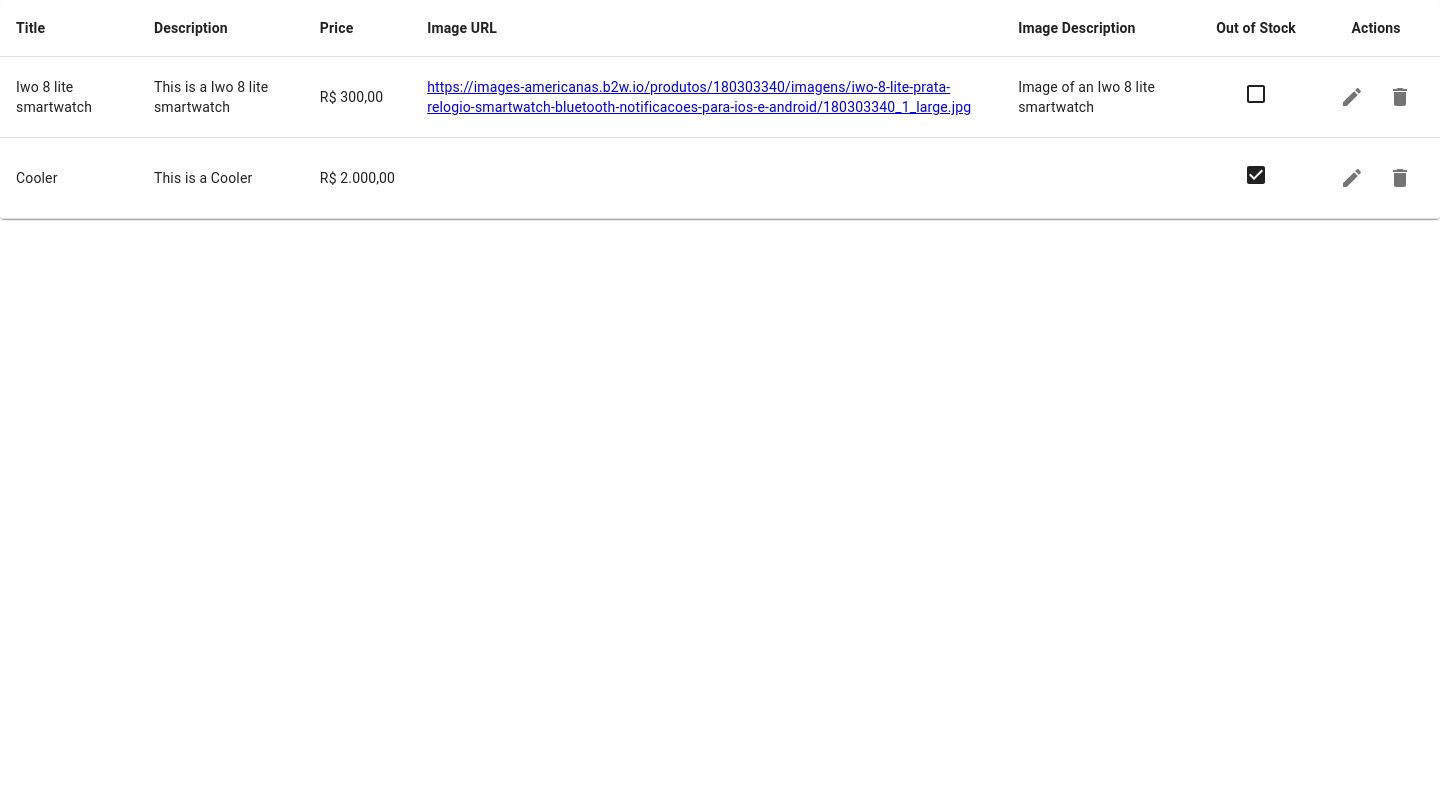
Test: Should show modal when clicking on edit action
Click the button named "Edit Cooler" at (1352, 178), box top-left (1328, 154), bottom-right (1376, 202)
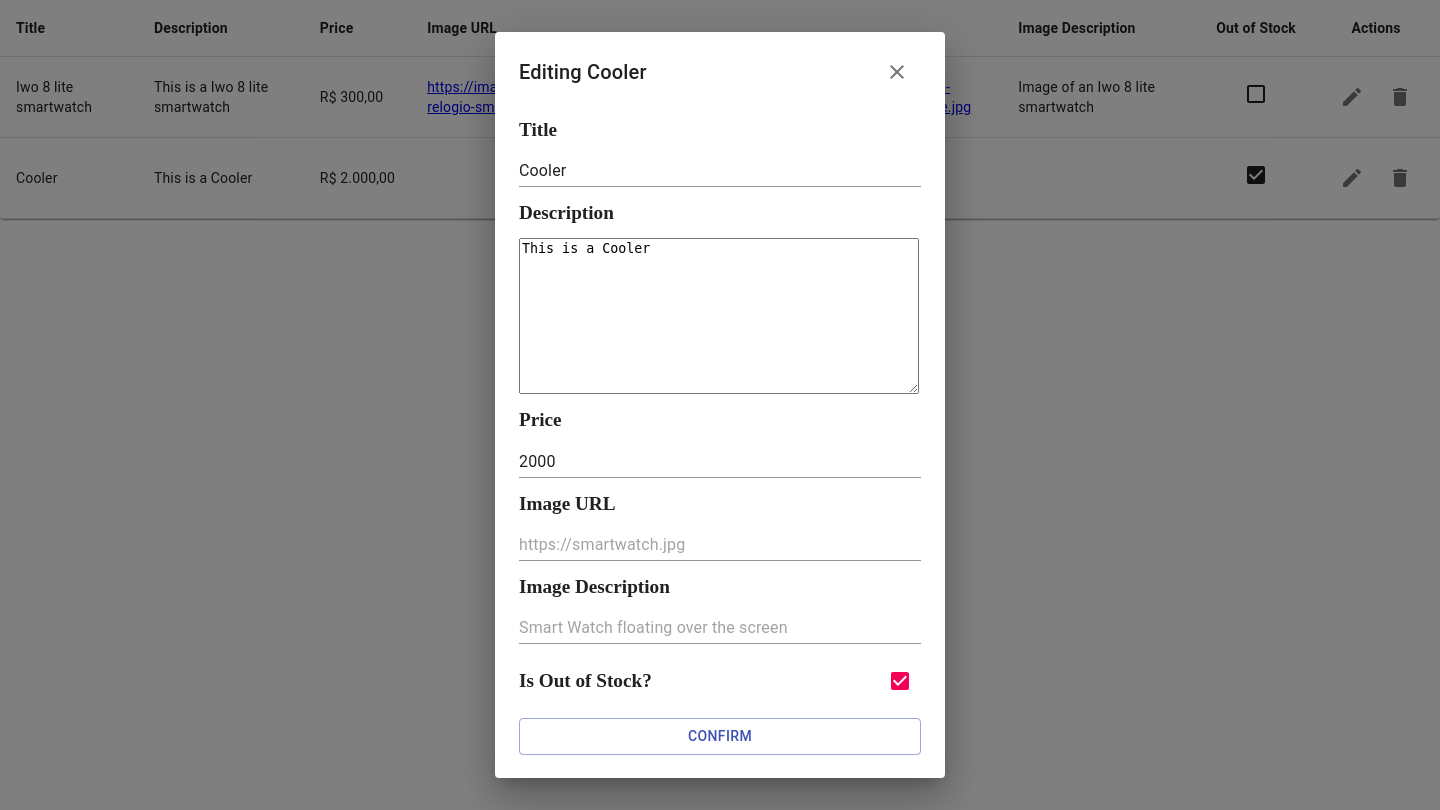
Expected: the heading "Editing Cooler" is shown, top-left (519, 48), bottom-right (921, 96)
Expected: the field labelled "Title" holds "Cooler", top-left (519, 155), bottom-right (921, 187)
Expected: the text box labelled "Description" holds "This is a Cooler", top-left (519, 238), bottom-right (919, 394)
Click the button named "Close Editor" at (897, 72), box top-left (873, 48), bottom-right (921, 96)
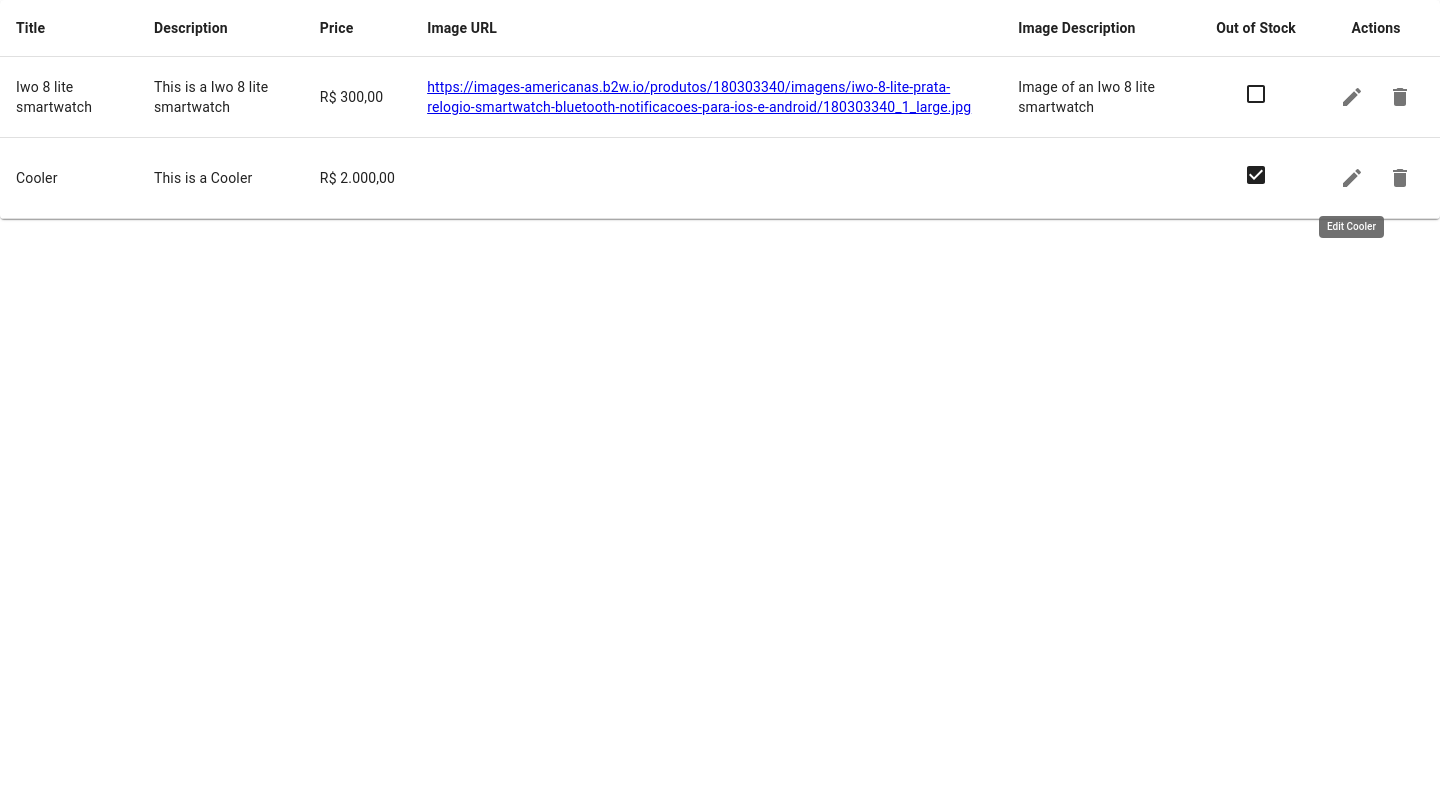
Expected: the heading "Editing Cooler" is gone
